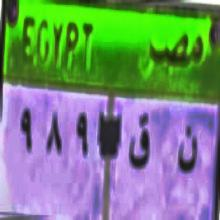8: (42, 105, 67, 167)
9: (72, 104, 93, 178), (17, 97, 34, 177)
noon: (172, 113, 200, 192)
qaaf: (124, 102, 152, 183)
